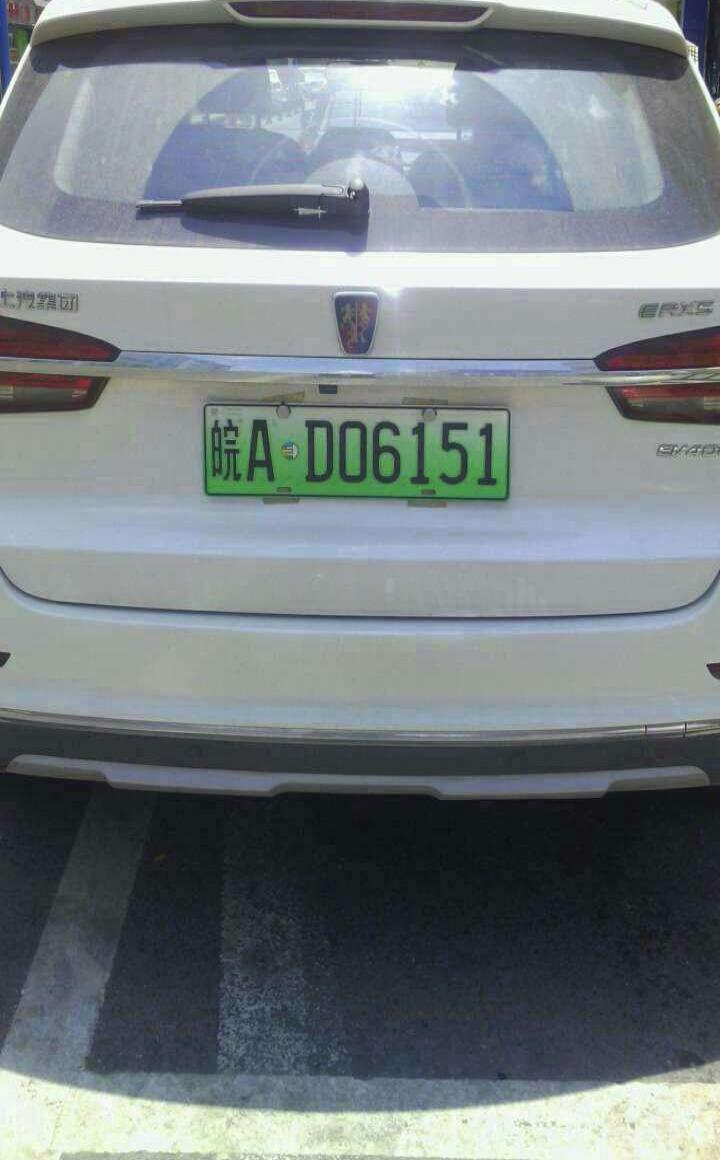car_id: (190, 399, 511, 512)
